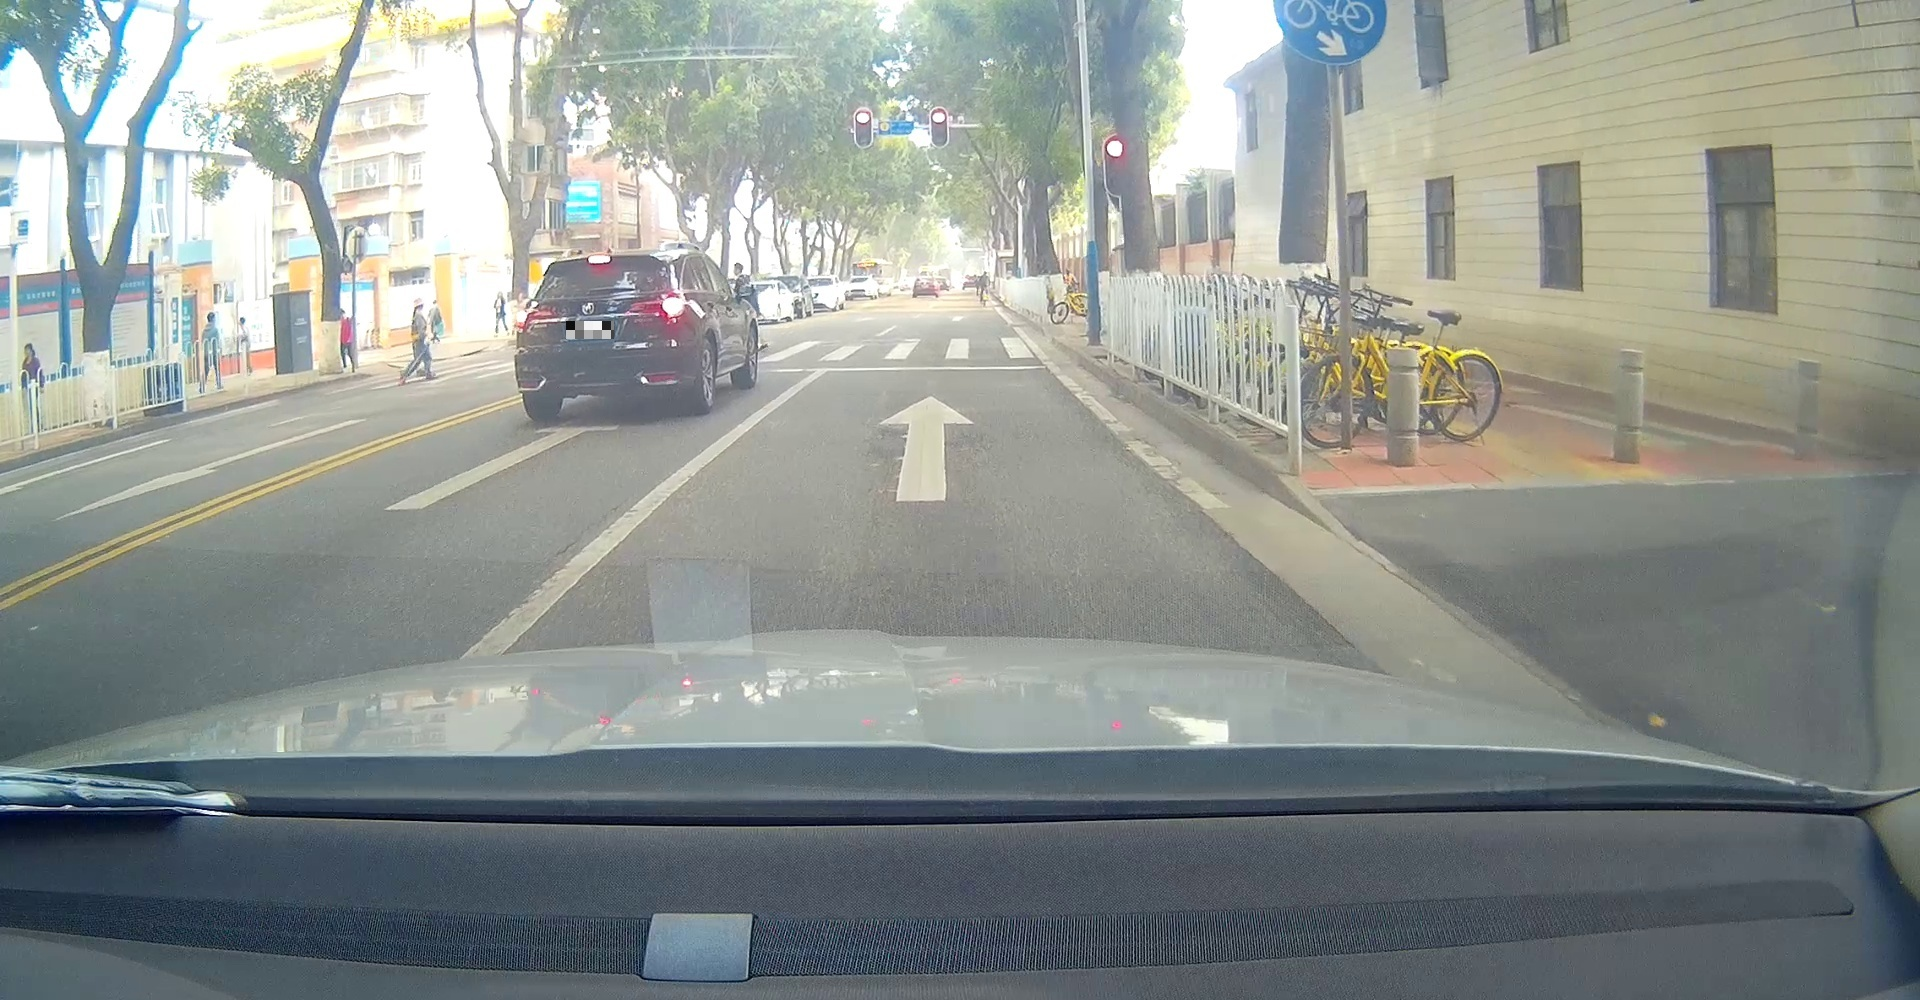L_light: (516, 305, 559, 332)
R_light: (631, 293, 684, 319)
T_light: (588, 256, 610, 263)
night-brake: (514, 253, 686, 421)
plate_1: (566, 321, 615, 339)
